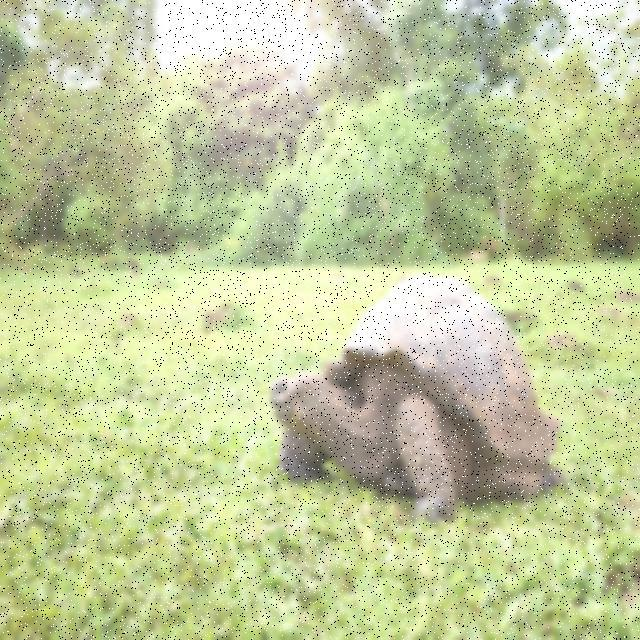tortoise: (260, 270, 574, 536)
